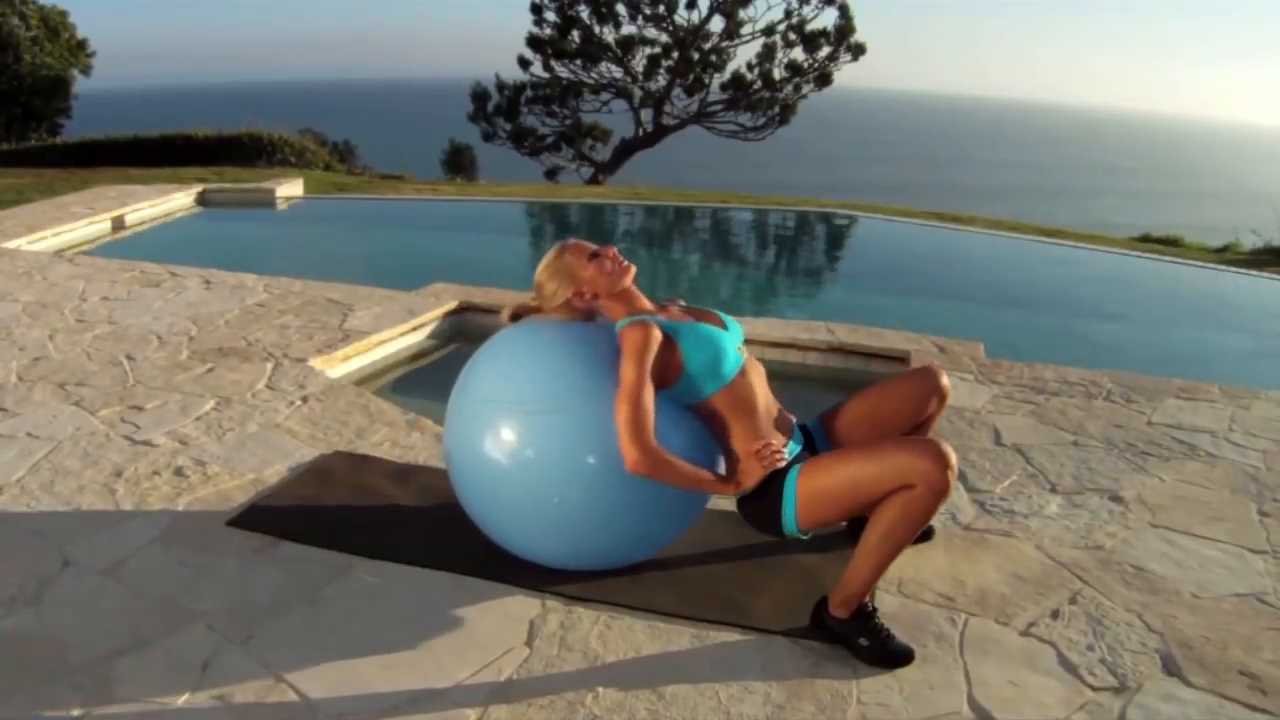yogaball: (440, 307, 729, 580)
